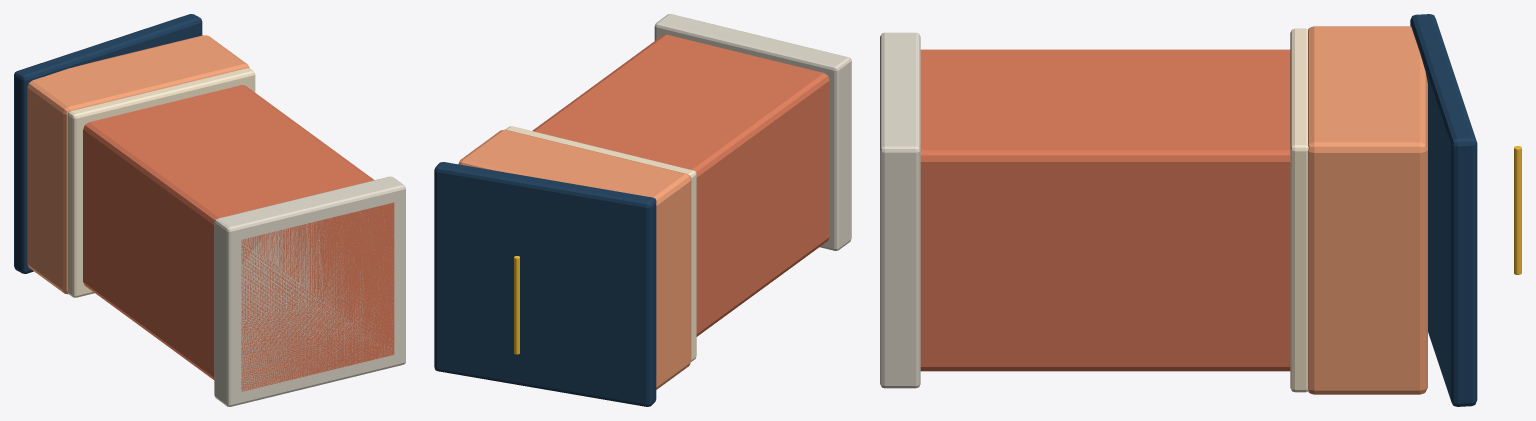
The model's file is CR_ClockTower.fbx.
The picture shows the model from 3 angles, left to right: view 1: azimuth 30°, elevation 25°; view 2: azimuth 150°, elevation 25°; view 3: azimuth 270°, elevation 25°; orthographic projection. The views are drawn at different scales.
Parts seen in each view (by area): view 1: Brick_Tower, Cream_Base.002, Brick_ClockHouse, Navy_Roof, Cream_Cornice.002; view 2: Navy_Roof, Brick_Tower, Brick_ClockHouse, Cream_Base.002, Cream_Cornice.002, Gold_Spire; view 3: Brick_Tower, Brick_ClockHouse, Navy_Roof, Cream_Base.002, Cream_Cornice.002, Gold_Spire.
Part boxes in pixels (left/top/right/bottom): Brick_Tower: left=83, top=85, right=394, bottom=391; Cream_Base.002: left=214, top=176, right=405, bottom=406; Brick_ClockHouse: left=27, top=35, right=249, bottom=294; Navy_Roof: left=14, top=14, right=202, bottom=273; Cream_Cornice.002: left=67, top=68, right=255, bottom=297; Navy_Roof: left=434, top=162, right=656, bottom=406; Brick_Tower: left=532, top=34, right=829, bottom=336; Brick_ClockHouse: left=458, top=129, right=691, bottom=389; Cream_Base.002: left=654, top=14, right=851, bottom=250; Cream_Cornice.002: left=505, top=126, right=696, bottom=361; Gold_Spire: left=514, top=256, right=519, bottom=354; Brick_Tower: left=920, top=49, right=1290, bottom=371; Brick_ClockHouse: left=1308, top=26, right=1427, bottom=394; Navy_Roof: left=1410, top=14, right=1477, bottom=406; Cream_Base.002: left=880, top=32, right=920, bottom=388; Cream_Cornice.002: left=1290, top=28, right=1308, bottom=392; Gold_Spire: left=1514, top=146, right=1521, bottom=274.
Bounding box in the file's own units: 5.28 × 5.74 × 11.07.
